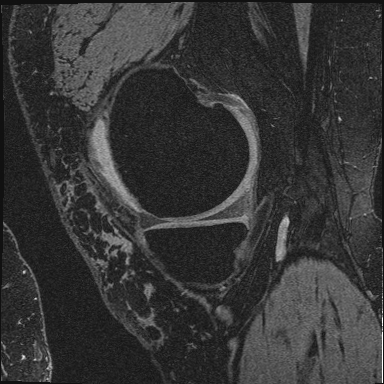effusion: (94, 122, 112, 186)
